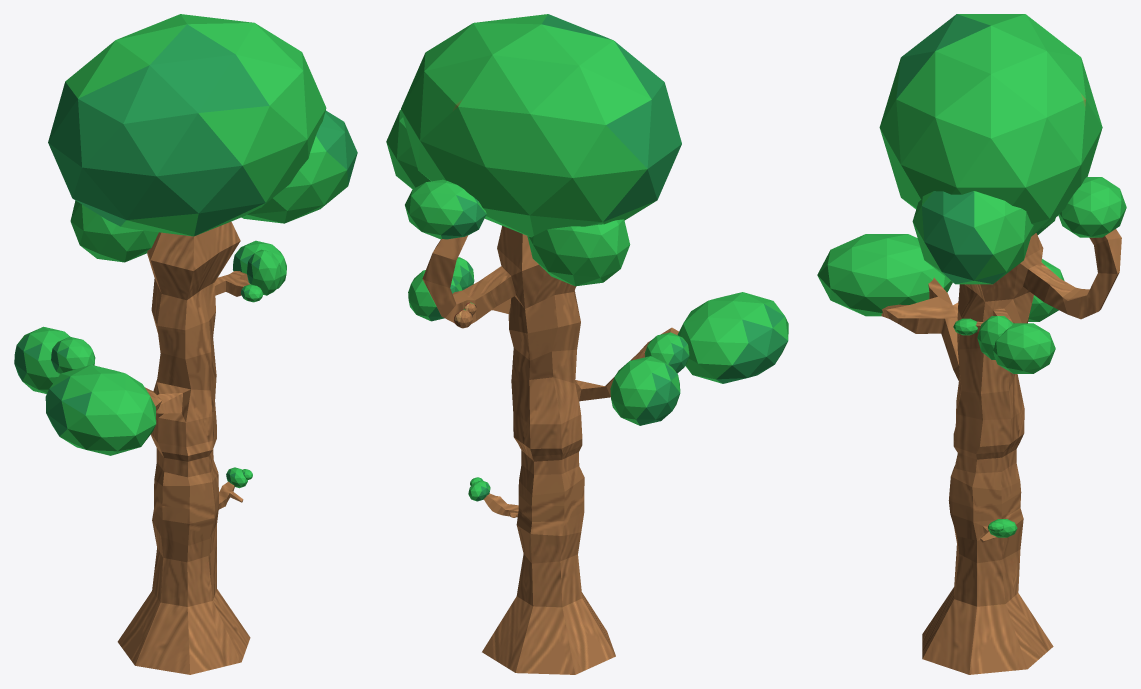
File: tree.fbx
The picture shows the model from 3 angles, left to right: view 1: azimuth 30°, elevation 25°; view 2: azimuth 150°, elevation 25°; view 3: azimuth 270°, elevation 25°; orthographic projection.
Visible parts, largest first — view 1: Icosphere.008, Circle, Icosphere.007, Icosphere.009, Icosphere.010, Icosphere.002, Icosphere.003, Icosphere.005, Icosphere.004; view 2: Icosphere.008, Circle, Icosphere.007, Icosphere.010, Icosphere.002, Icosphere.011, Icosphere.009, Icosphere.003, Icosphere.004; view 3: Icosphere.008, Circle, Icosphere.009, Icosphere.007, Icosphere.011, Icosphere.004, Icosphere.005, Icosphere.002.
Boxes of the visible parts, box(x1,y1,x2,y2) form: Icosphere.008: box(48, 14, 326, 236); Circle: box(117, 221, 250, 674); Icosphere.007: box(45, 365, 156, 455); Icosphere.009: box(241, 110, 357, 223); Icosphere.010: box(70, 200, 158, 262); Icosphere.002: box(14, 326, 70, 393); Icosphere.003: box(51, 336, 95, 374); Icosphere.005: box(247, 249, 281, 295); Icosphere.004: box(233, 240, 286, 289); Icosphere.008: box(401, 14, 681, 237); Circle: box(422, 226, 678, 674); Icosphere.007: box(677, 292, 788, 383); Icosphere.010: box(527, 219, 630, 286); Icosphere.002: box(610, 356, 680, 425); Icosphere.011: box(405, 179, 486, 239); Icosphere.009: box(386, 110, 430, 189); Icosphere.003: box(644, 332, 689, 373); Icosphere.004: box(408, 270, 462, 321); Icosphere.008: box(879, 14, 1102, 236); Circle: box(881, 229, 1121, 674); Icosphere.009: box(912, 191, 1034, 284); Icosphere.007: box(817, 234, 952, 316); Icosphere.011: box(1058, 177, 1126, 237); Icosphere.004: box(993, 323, 1055, 373); Icosphere.005: box(977, 316, 1013, 359); Icosphere.002: box(1028, 259, 1064, 321).
Bounding box in the file's own units: 5130 × 9054 × 4075.
Materials: 1 (1 with a texture image).
